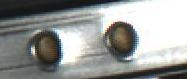joints: (27, 26, 65, 69), (102, 20, 141, 59)
